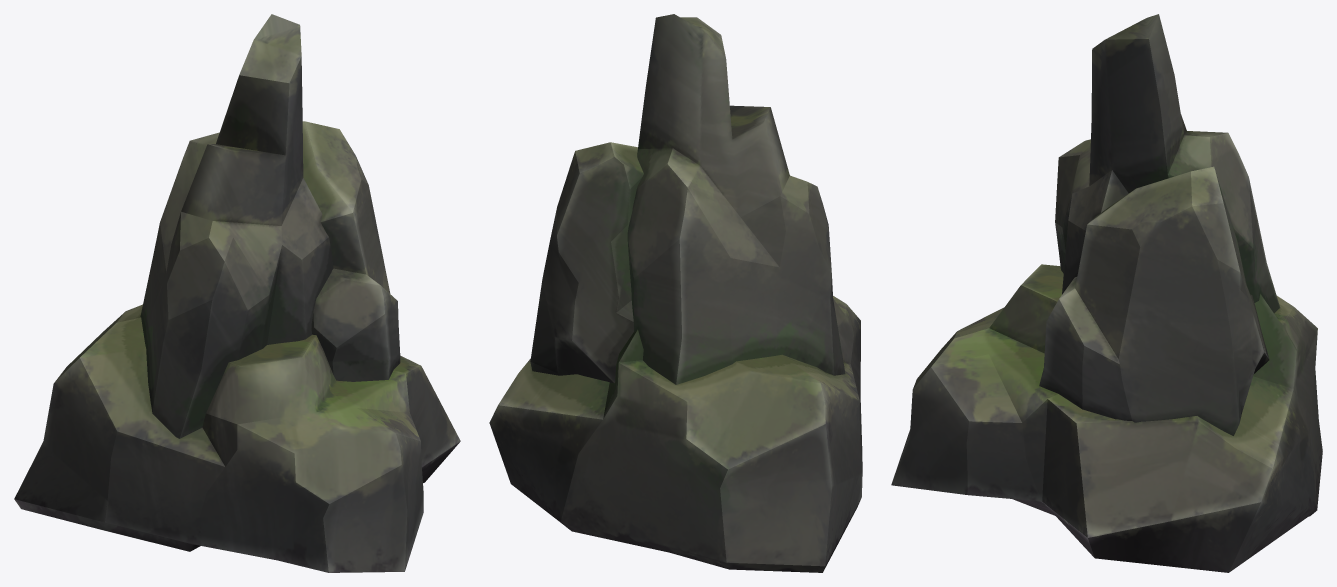
The model's file is Rock_5.gltf.
The picture shows the model from 3 angles, left to right: view 1: azimuth 30°, elevation 25°; view 2: azimuth 150°, elevation 25°; view 3: azimuth 270°, elevation 25°; orthographic projection. The views are drawn at different scales.
Parts seen in each view (by area): view 1: Rock_5; view 2: Rock_5; view 3: Rock_5.
Part boxes in pixels (<box>): Rock_5: <box>14,14,460,572</box>; Rock_5: <box>489,14,862,572</box>; Rock_5: <box>891,14,1322,572</box>.
Bounding box in the file's own units: 2.58 × 3.39 × 2.63.
1 material, 1 textured.
